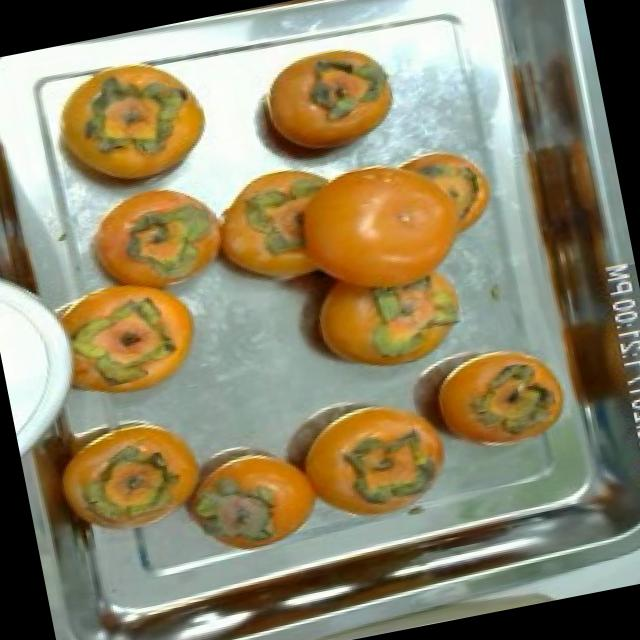Fruit: (24, 248, 222, 424), (33, 396, 226, 556), (278, 380, 471, 530), (155, 418, 337, 570), (48, 57, 229, 207), (62, 162, 246, 304), (235, 32, 415, 176), (412, 328, 584, 469)
